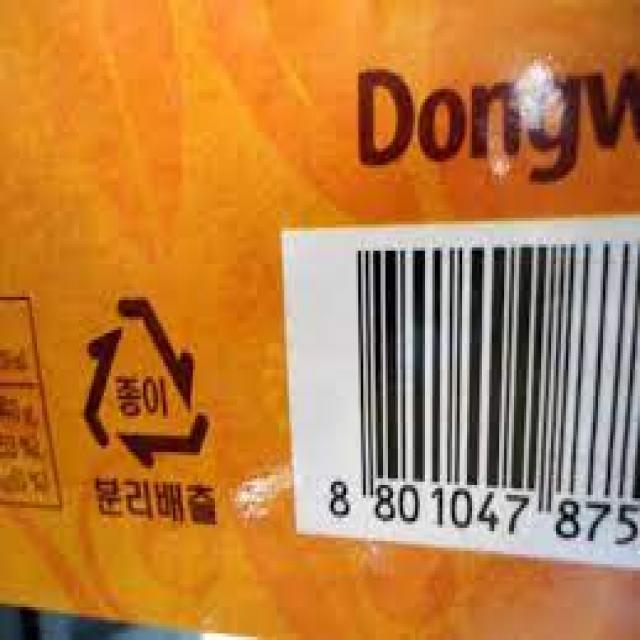Paper: (76, 289, 217, 475)
